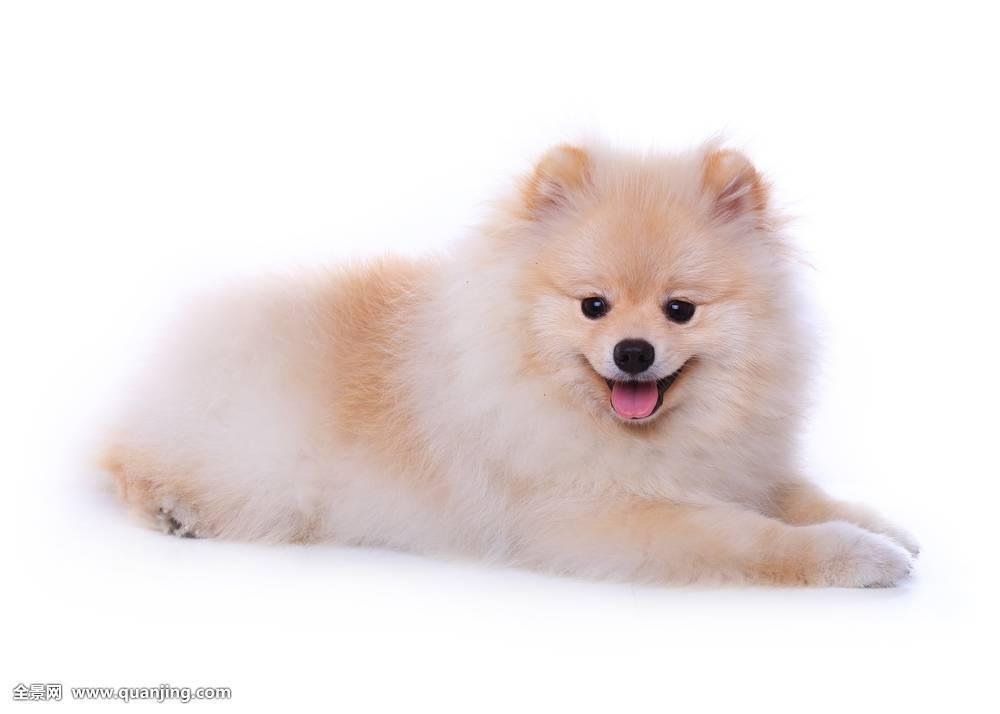dog: (91, 120, 931, 605)
